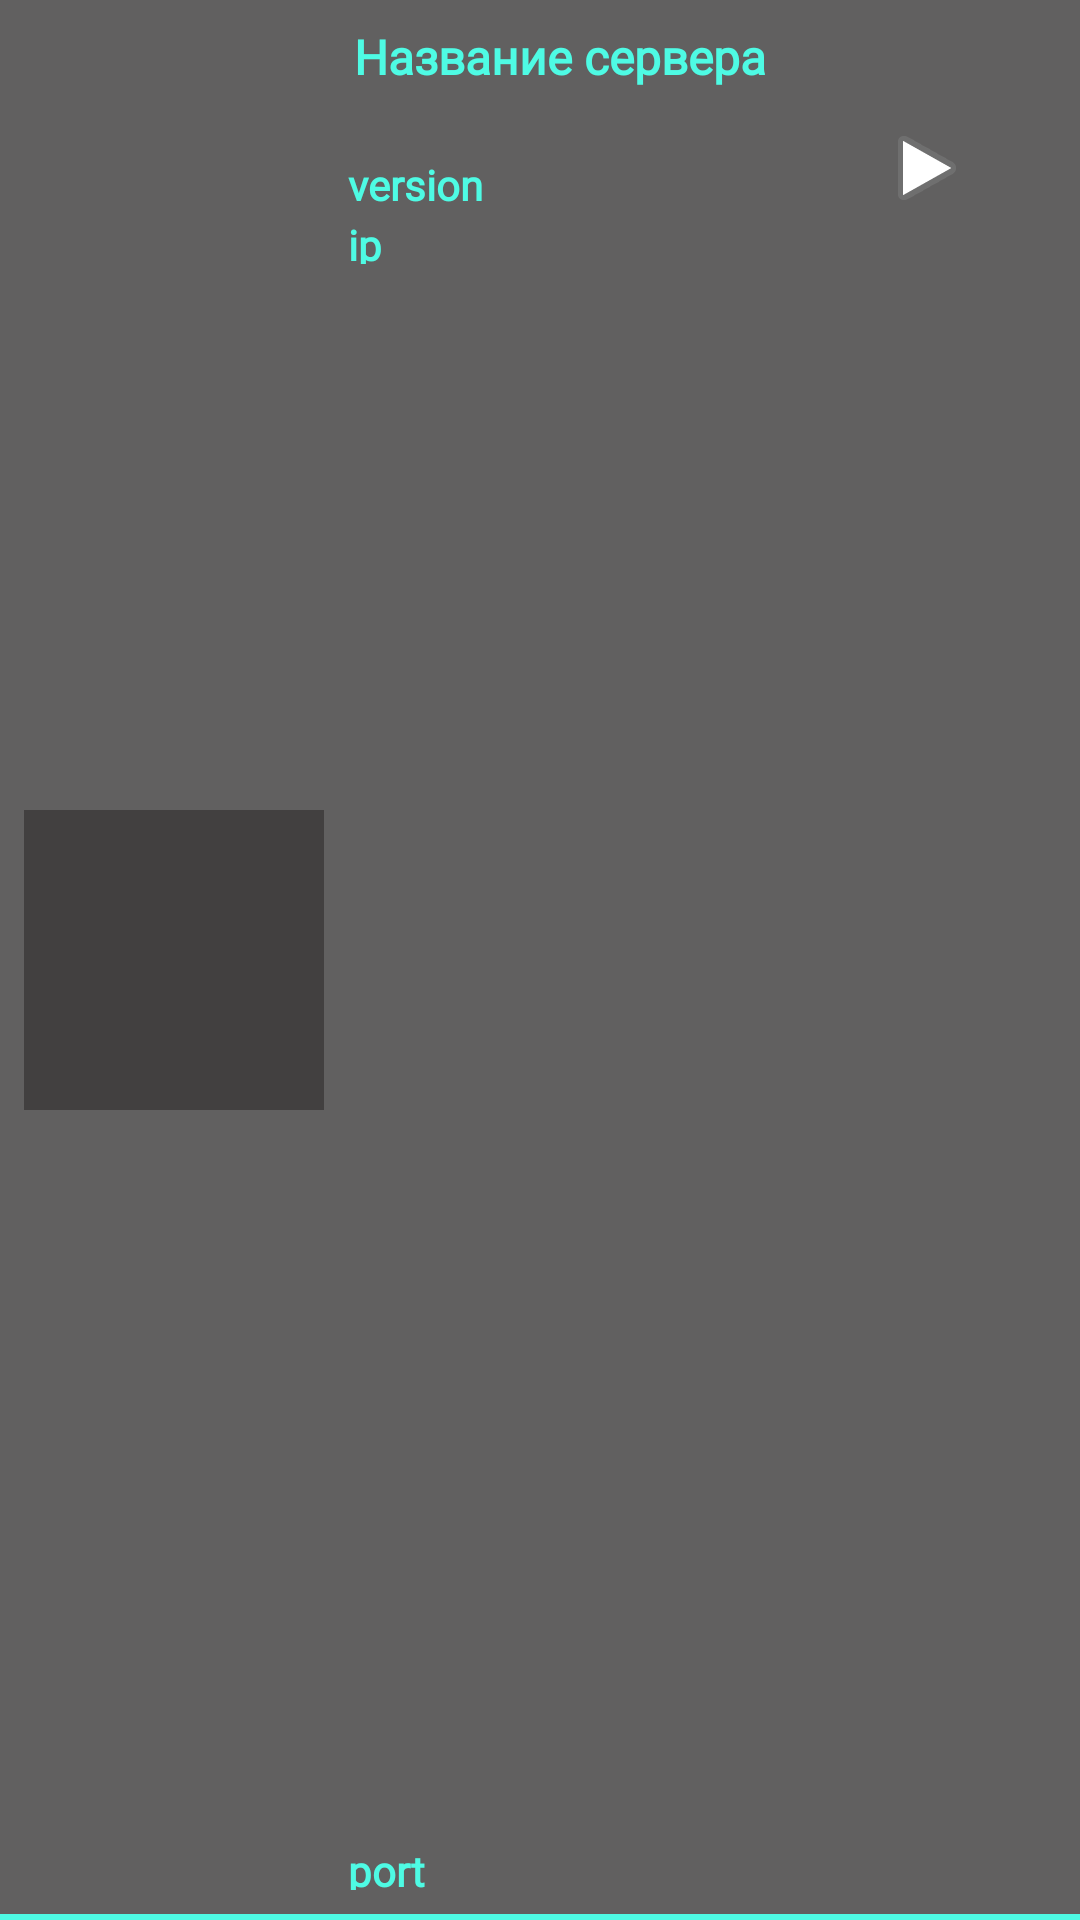

Icons on this 1080px x 1920px Android screen, each with its box as (x1, y1, x2, y2):
play: (903, 141, 951, 195)
